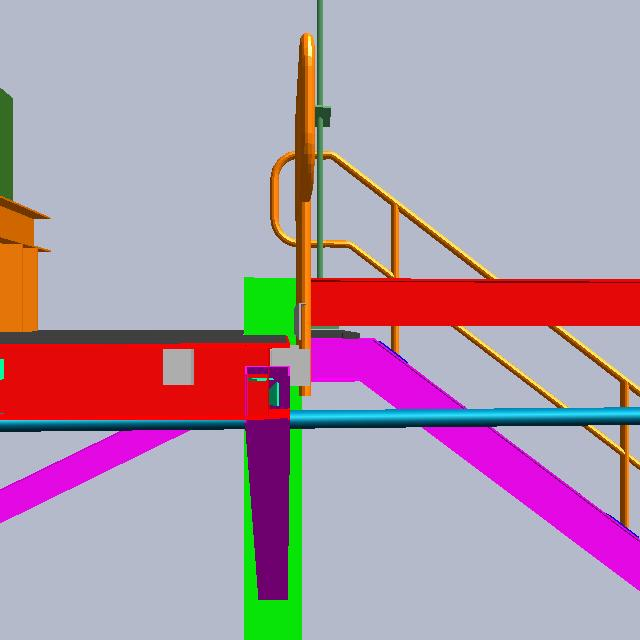Poste: (303, 1, 346, 344)
